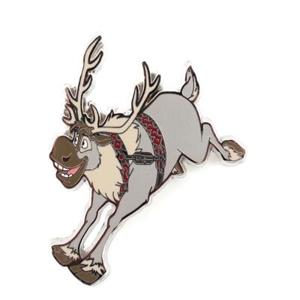sven: (45, 20, 247, 286)
